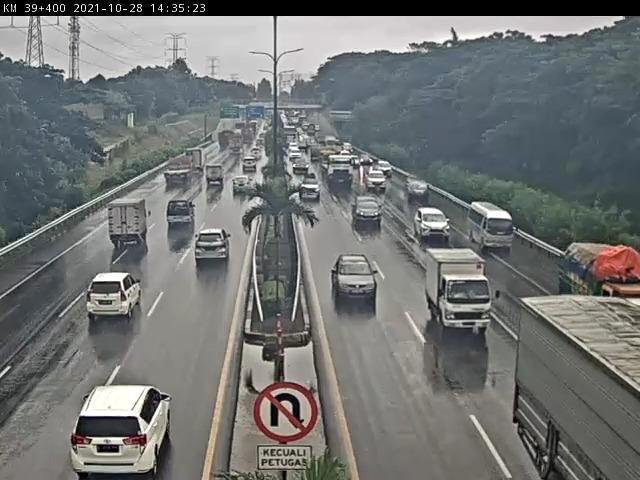bus: (467, 200, 519, 251)
car: (65, 377, 182, 480), (107, 195, 156, 248), (335, 256, 380, 311), (162, 197, 201, 238), (191, 229, 231, 266), (413, 210, 454, 246), (295, 171, 328, 203), (350, 196, 384, 227), (363, 162, 389, 193), (402, 176, 433, 199), (201, 162, 227, 189), (231, 177, 256, 202), (243, 158, 259, 176)
truck: (512, 285, 640, 480), (537, 233, 640, 298), (418, 247, 493, 333), (78, 268, 149, 330), (322, 159, 357, 197), (163, 153, 196, 190)
